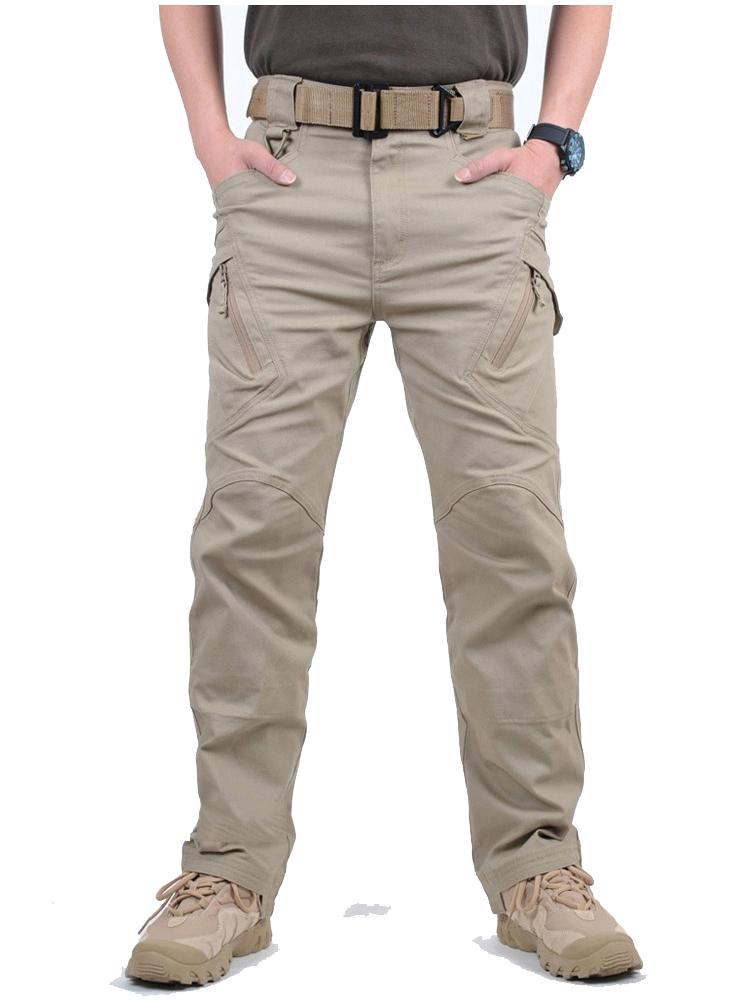pants: (184, 80, 588, 880)
